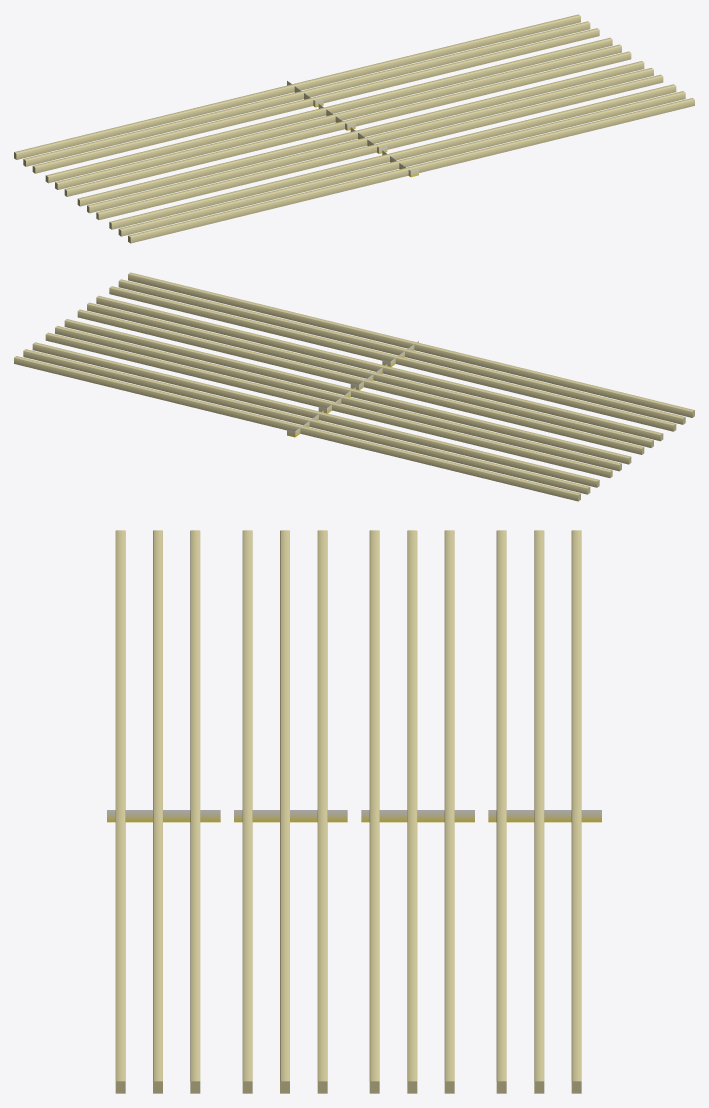
Rendered from OP_7001_BEAM.glb.
3 renders of one model, top to bottom at view 1: azimuth 30°, elevation 25°; view 2: azimuth 150°, elevation 25°; view 3: azimuth 270°, elevation 25°, orthographic. The views are drawn at different scales.
Visible parts, largest first — view 1: obj1; view 2: obj1; view 3: obj1.
Part boxes in pixels (<box>): obj1: <box>14,14,694,243</box>; obj1: <box>14,272,694,501</box>; obj1: <box>107,530,601,1093</box>.
Bounding box in the file's own units: 400 × 4.28 × 152.
2 materials, 1 textured.
